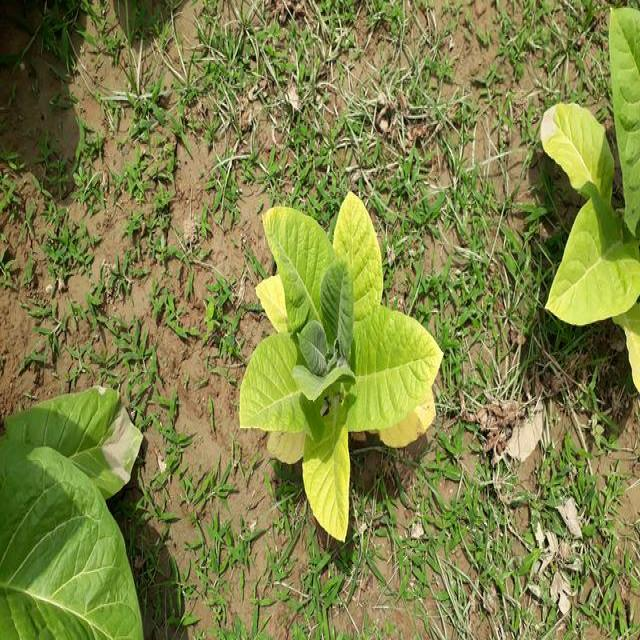crop: (254, 203, 438, 532), (0, 397, 147, 640), (550, 0, 640, 387)
